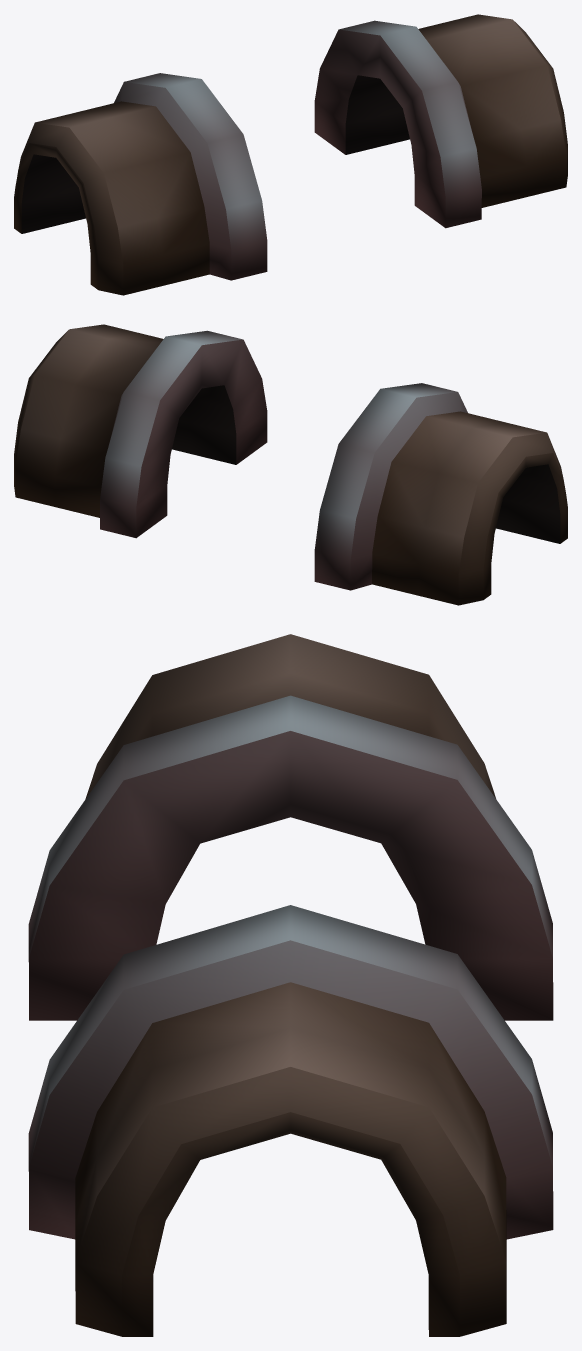
The model's file is Equip_Shoulders_03_1.FBX.
3 renders of one model, top to bottom at view 1: azimuth 30°, elevation 25°; view 2: azimuth 150°, elevation 25°; view 3: azimuth 270°, elevation 25°, orthographic. The views are drawn at different scales.
Visible parts, largest first — view 1: Equip_Shoulders_03_1; view 2: Equip_Shoulders_03_1; view 3: Equip_Shoulders_03_1.
Part boxes in pixels (box(x1,y1,x2,y2)): Equip_Shoulders_03_1: box(14, 14, 567, 295); Equip_Shoulders_03_1: box(14, 324, 567, 605); Equip_Shoulders_03_1: box(28, 634, 553, 1336).
Bounding box in the file's own units: 43.52 × 12.83 × 21.04.
